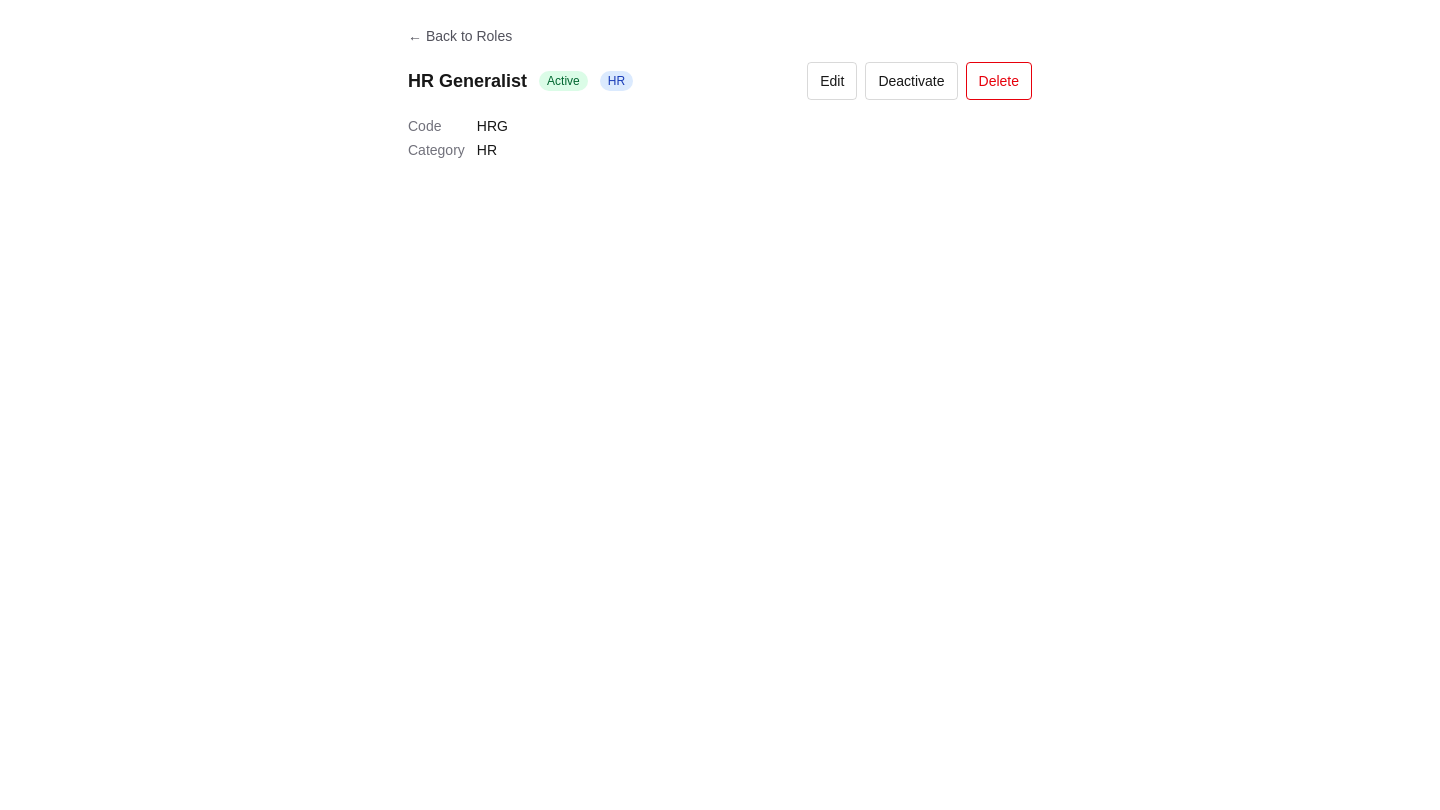
Scenario: RoleDetailPage › UT12: deactivates a role with no employees holding it
Check: the heading "HR Generalist" is shown, box 408,67 -> 527,95
Step 1. Click the button "Deactivate" → (912, 81), box 865,62 -> 958,100
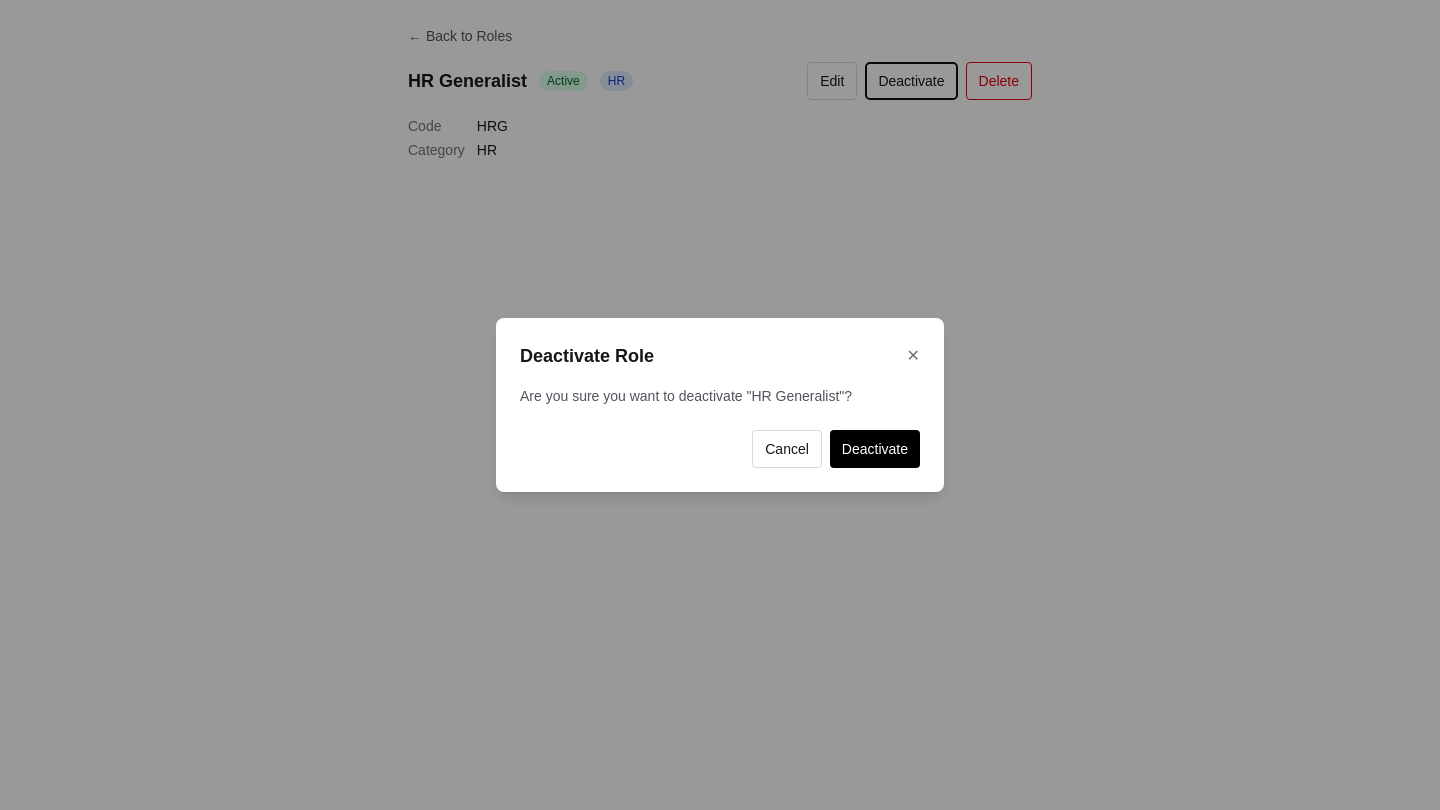
Step 2. Click the button "Deactivate" → (875, 449), box 830,430 -> 920,468
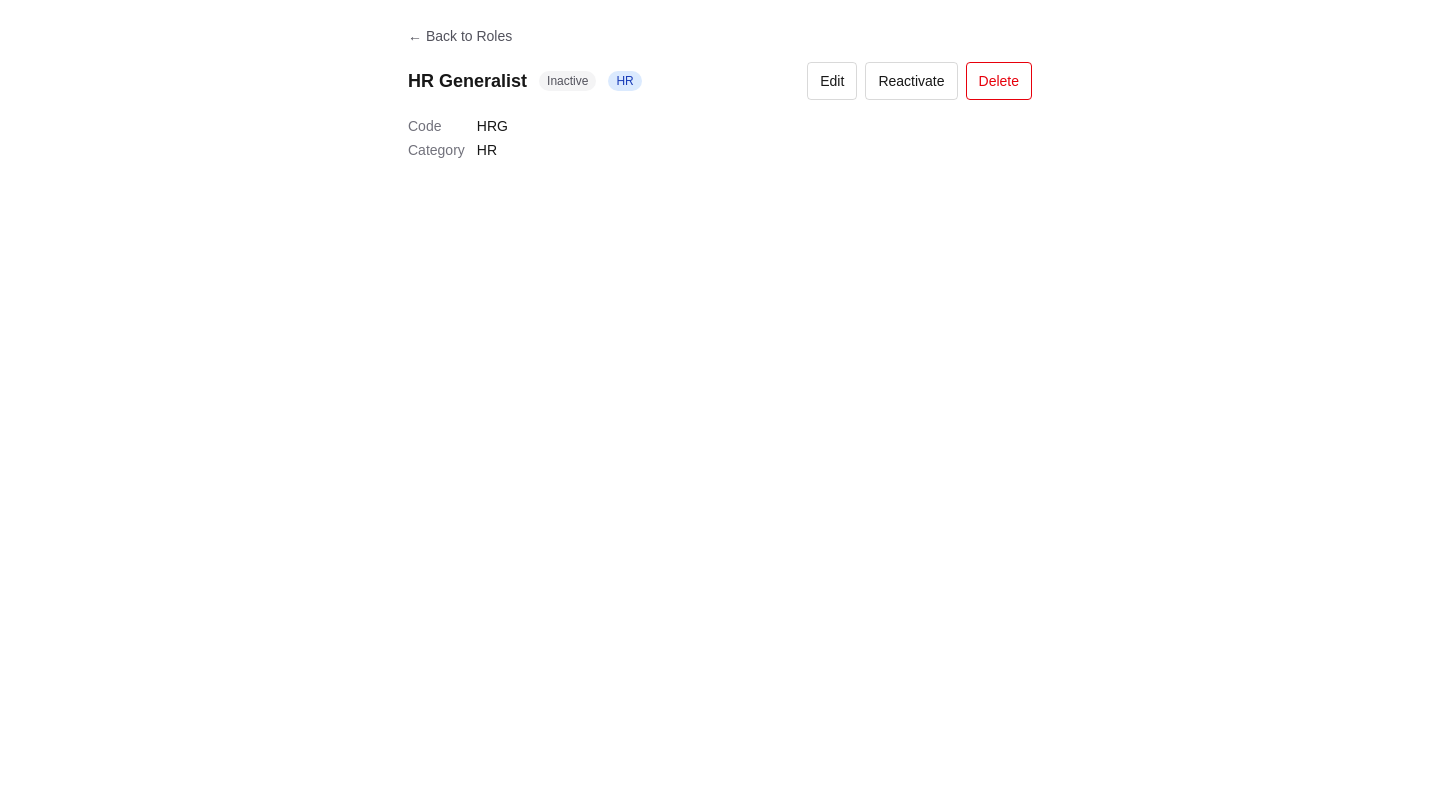
Check: the text "Inactive" is shown, box 539,71 -> 596,91
Check: the dialog is gone
